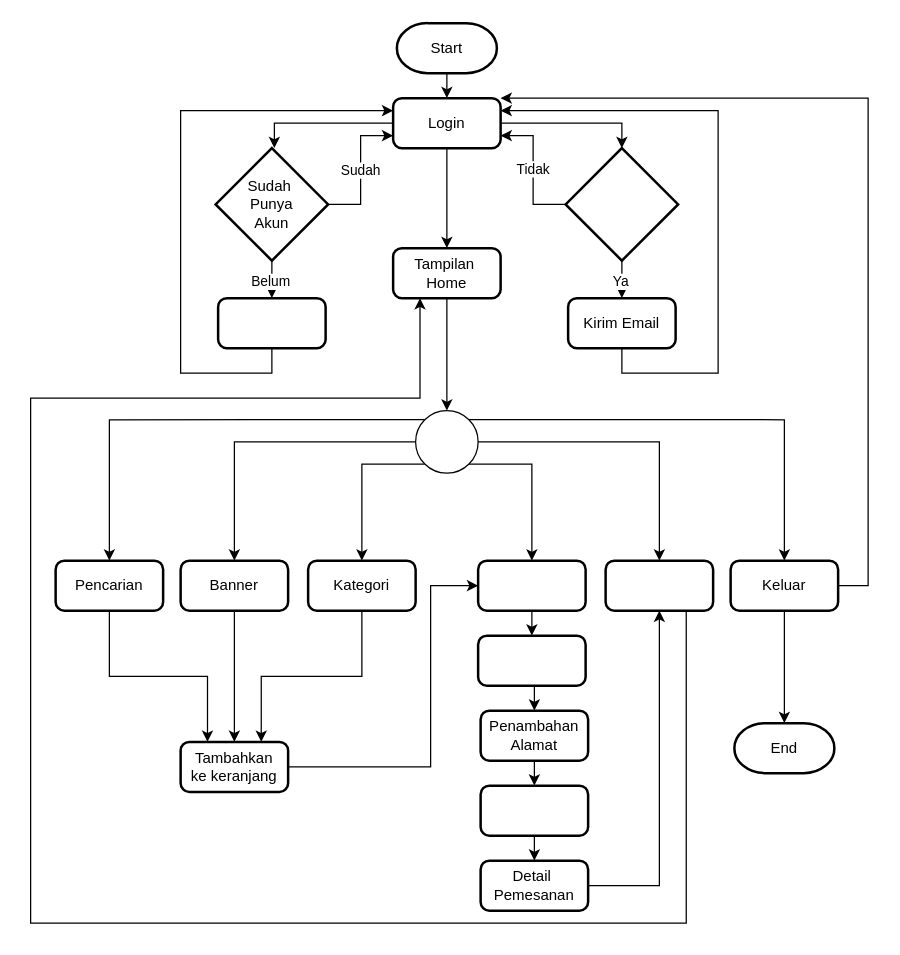
Some shapes in this 900 by 955 pixel diagram are drawn without their labels. The box of each missing label's shape, as (x1, y1, x2, y2) in pixels:
Buat Akun: (216, 296, 326, 349)
Checkout: (476, 634, 586, 686)
Keranjang: (476, 559, 586, 611)
Lupa Password: (564, 146, 679, 261)
Pembayaran: (479, 784, 589, 836)
Riwayat: (604, 559, 714, 611)
